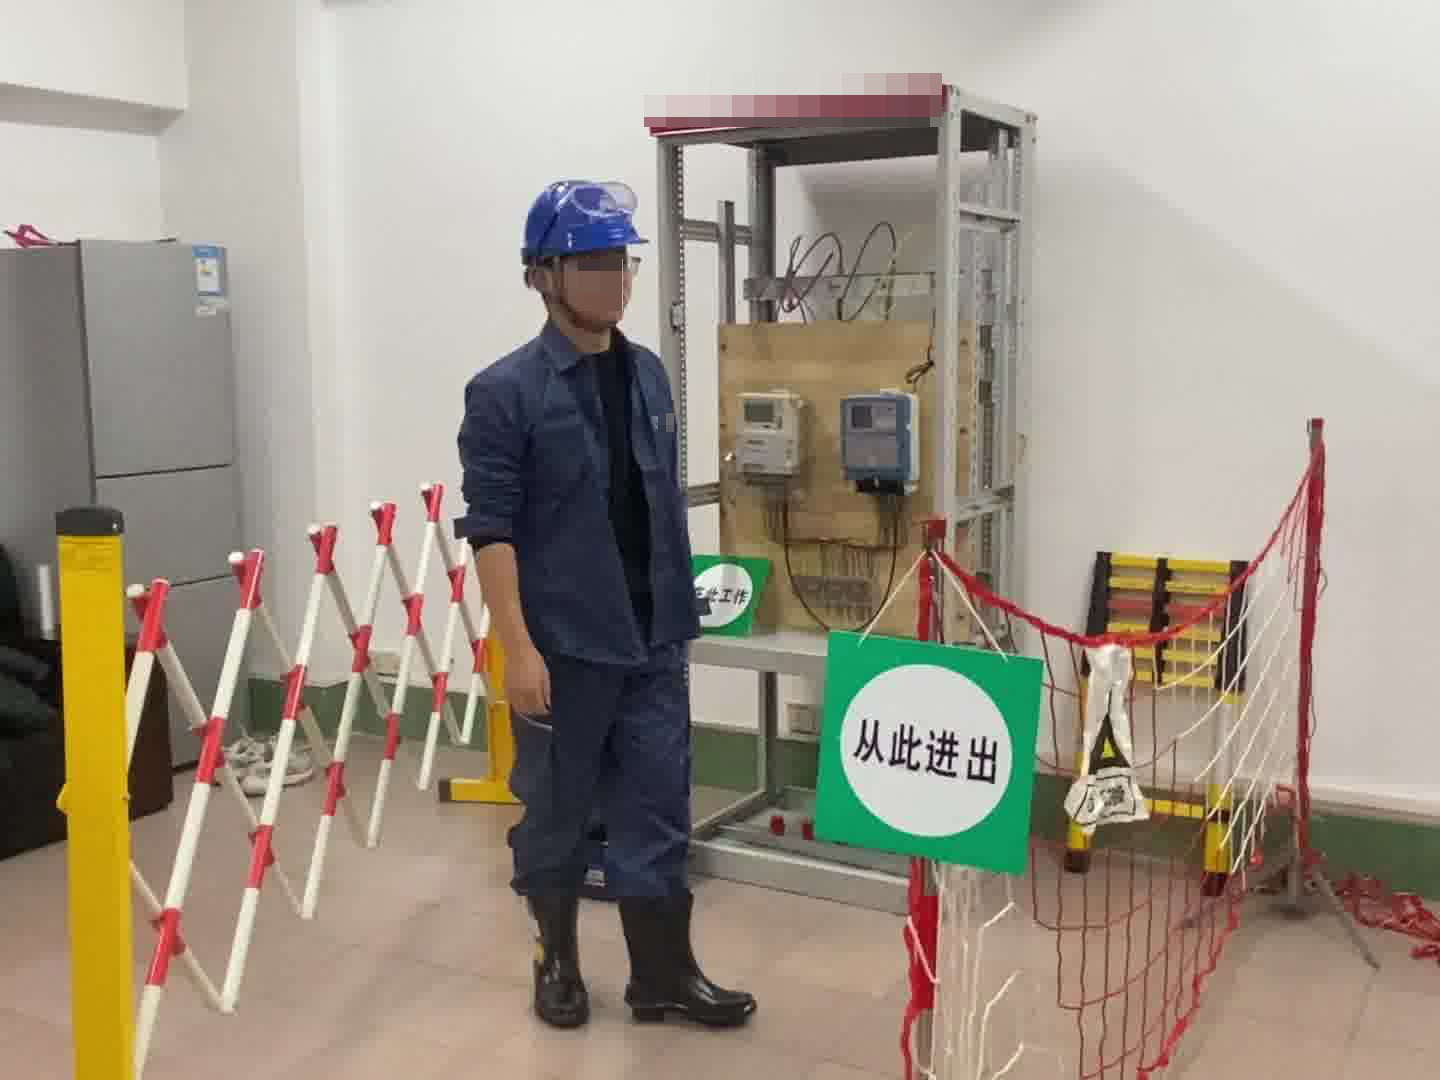downsuit: (502, 661, 703, 895)
halt: (516, 175, 650, 339)
hand: (497, 655, 556, 714)
inear: (521, 257, 573, 315)
intosign: (822, 630, 1022, 861)
person: (452, 170, 753, 1048)
shoe: (610, 896, 753, 1020), (519, 892, 589, 1016)
upsuit: (457, 338, 697, 661)
worksign: (687, 551, 763, 633)
wrongsuit: (575, 362, 655, 628)
wrongtop: (468, 476, 551, 724)
